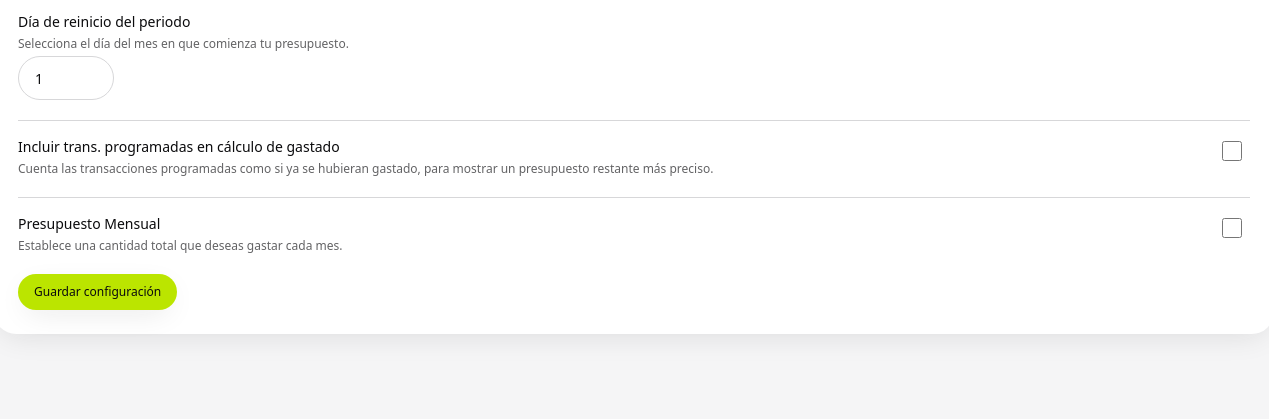
Test: BudgetSettingsForm — smoke render › the monthly-total amount field is hidden until the toggle is enabled
The image size is (1269, 419).
Click the checkbox labelled "Presupuesto Mensual" at point(1232, 228), box top-left (1214, 218), bottom-right (1250, 238)
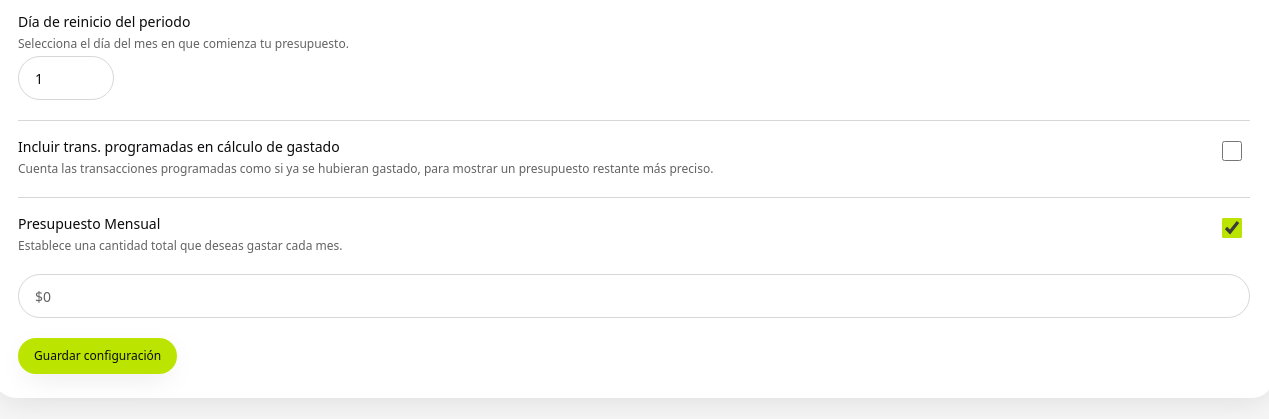
Check: the number field named "Presupuesto mensual total (MXN)" is shown, box top-left (18, 274), bottom-right (1250, 318)
